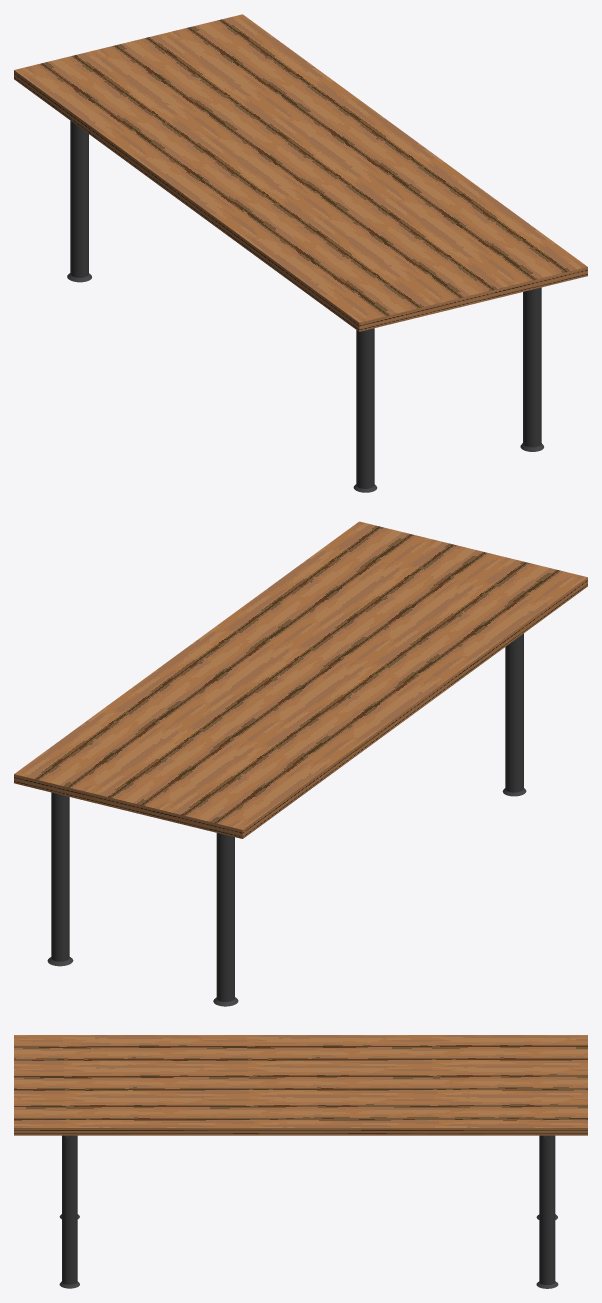
File: STOL.fbx
The picture shows the model from 3 angles, top to bottom: view 1: azimuth 30°, elevation 25°; view 2: azimuth 150°, elevation 25°; view 3: azimuth 270°, elevation 25°; orthographic projection. The views are drawn at different scales.
Parts seen in each view (by area): view 1: Cube, Cylinder.001; view 2: Cube, Cylinder.001; view 3: Cube, Cylinder.001.
Boxes of the visible parts, left/top/right/bottom form: Cube: left=14, top=14, right=587, bottom=331; Cylinder.001: left=67, top=121, right=543, bottom=492; Cube: left=14, top=521, right=587, bottom=838; Cylinder.001: left=47, top=633, right=526, bottom=1006; Cube: left=14, top=1035, right=587, bottom=1135; Cylinder.001: left=59, top=1135, right=558, bottom=1288.
Size of the model in its own units: 283 by 236 by 740.
